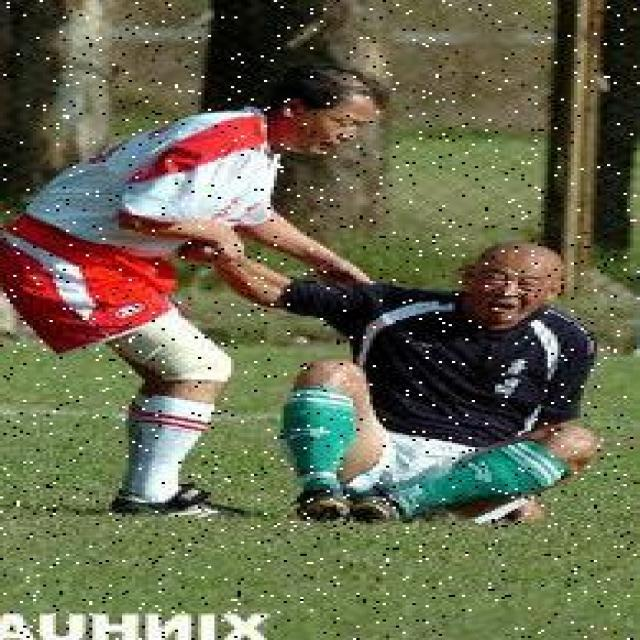fall: (264, 236, 610, 525)
